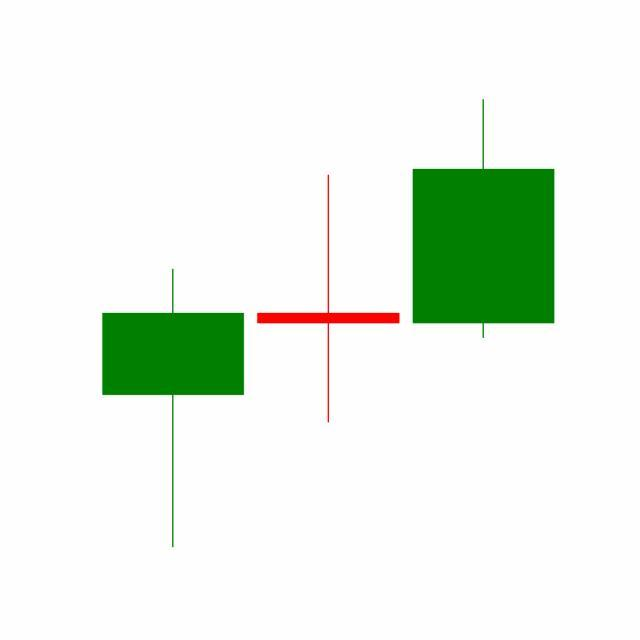Spinning Top: (250, 172, 407, 426)
